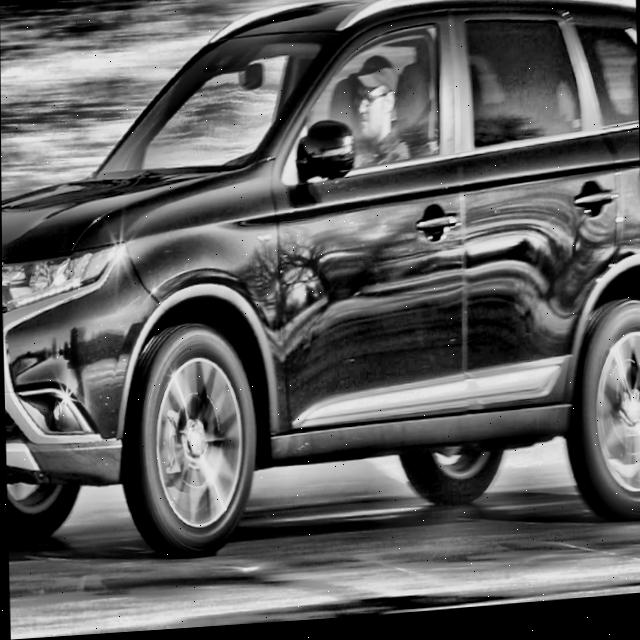light_vehicle: (0, 0, 640, 580)
